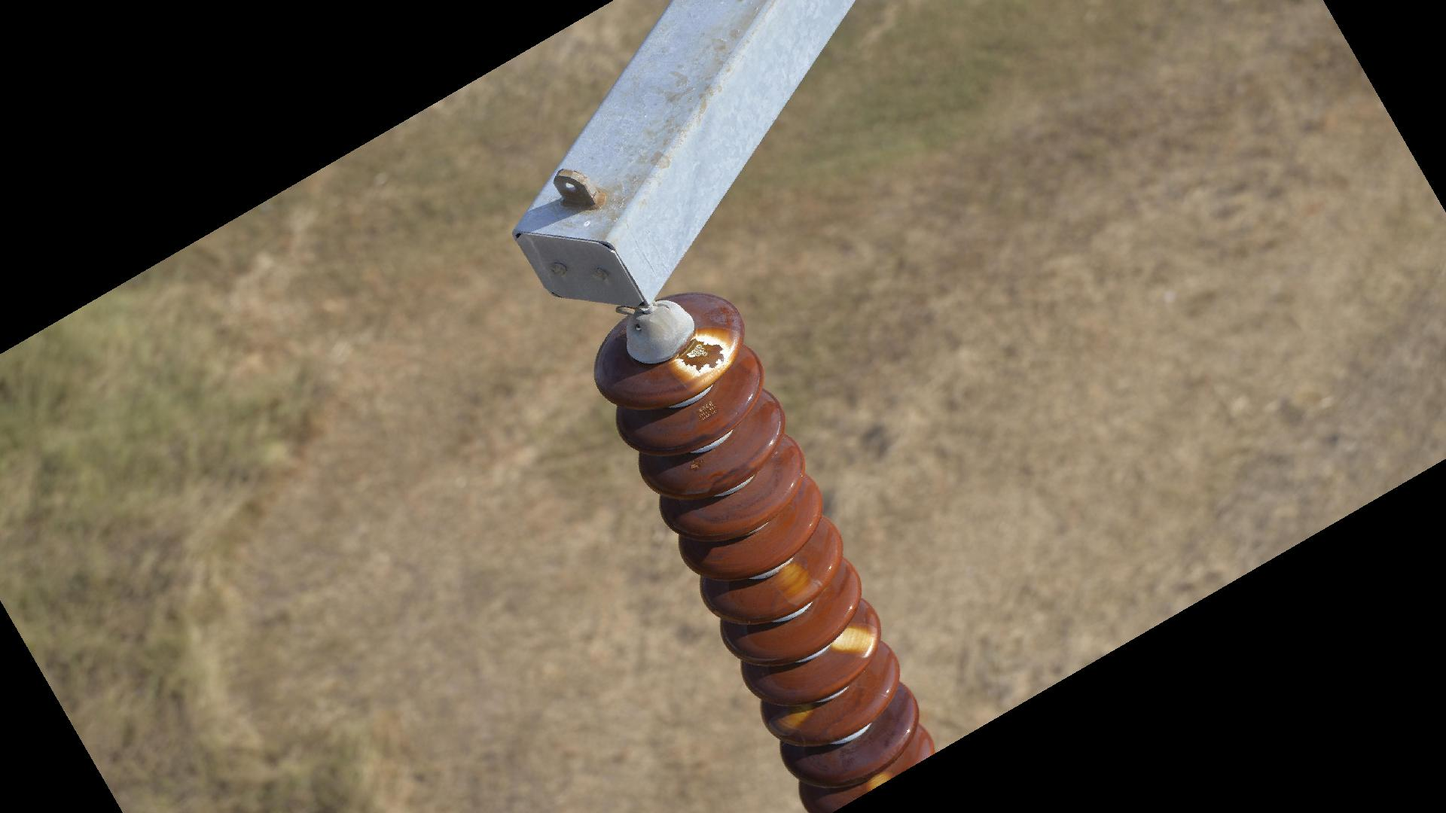insulator: (589, 285, 941, 813)
insulator_flashover: (668, 325, 746, 394), (768, 561, 822, 609), (831, 622, 883, 663), (769, 700, 817, 741)
